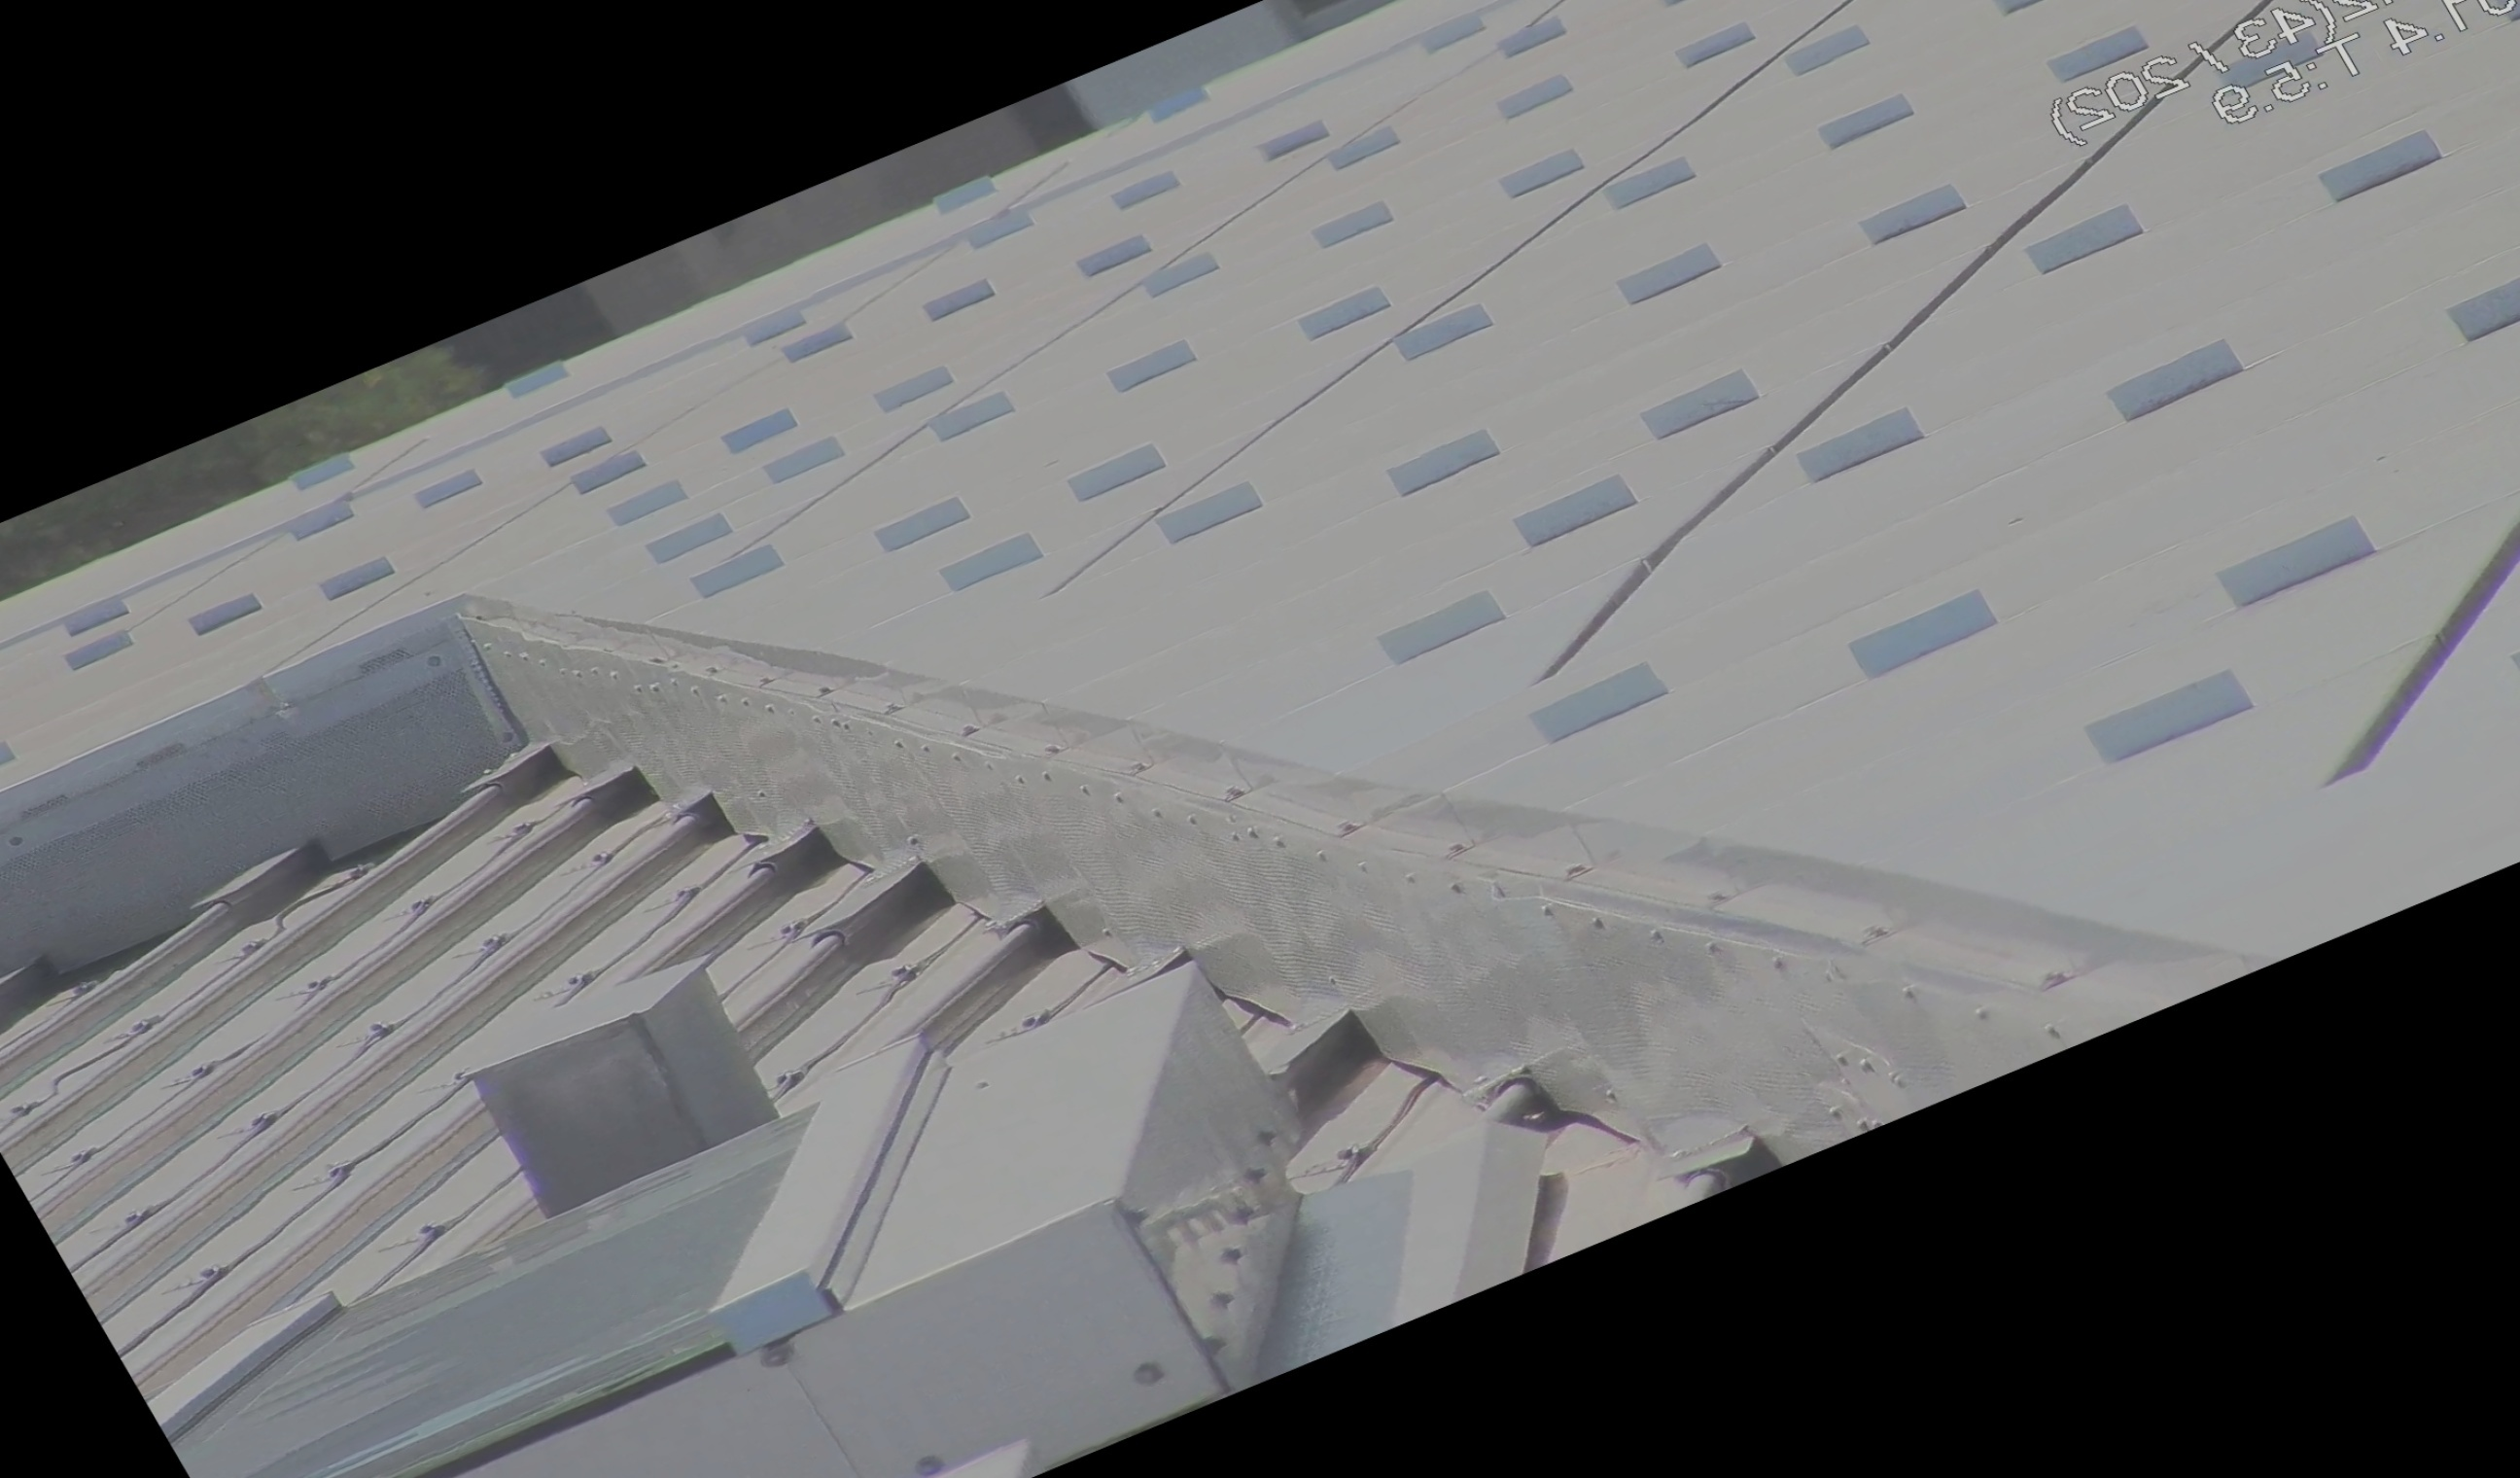Other: (1430, 1028, 1660, 1218)
